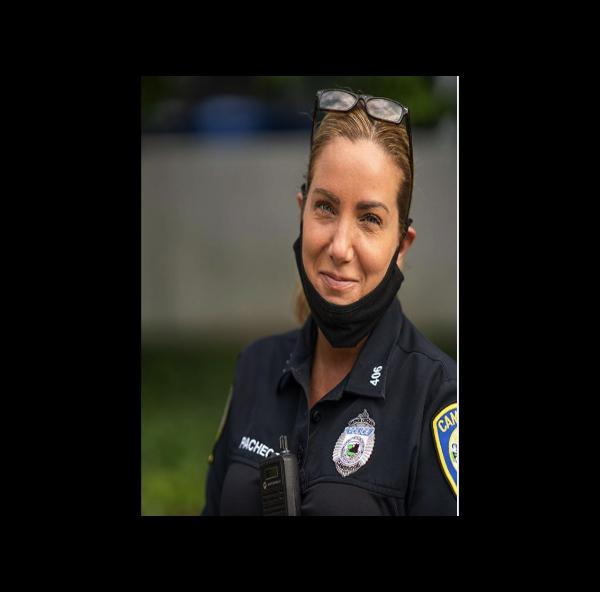mask_weared_incorrect: (312, 172, 395, 335)
